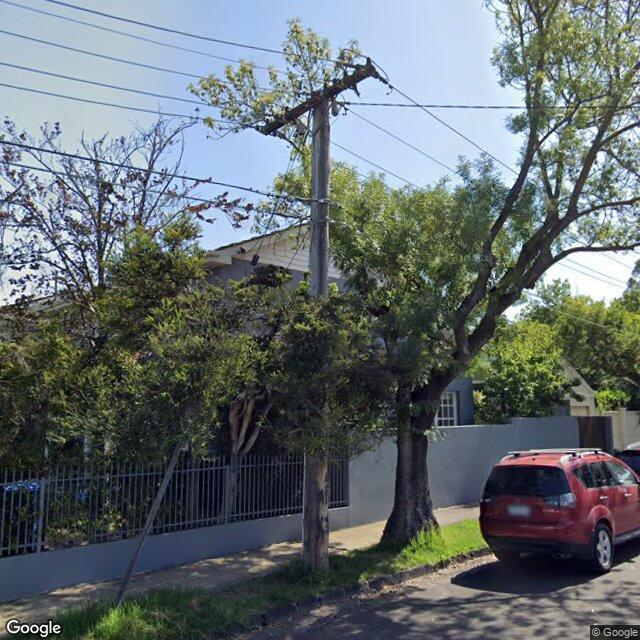crossarm: (254, 56, 392, 136)
timber-pole: (302, 87, 332, 565)
